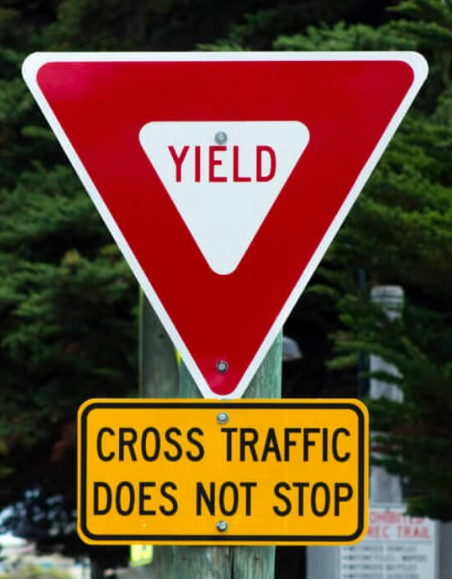Yeild: (18, 47, 432, 400)
